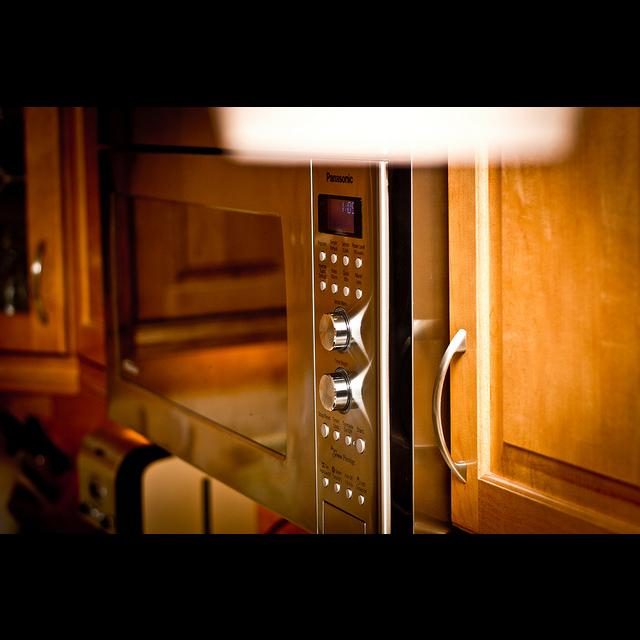Microwave: (101, 135, 460, 525)
